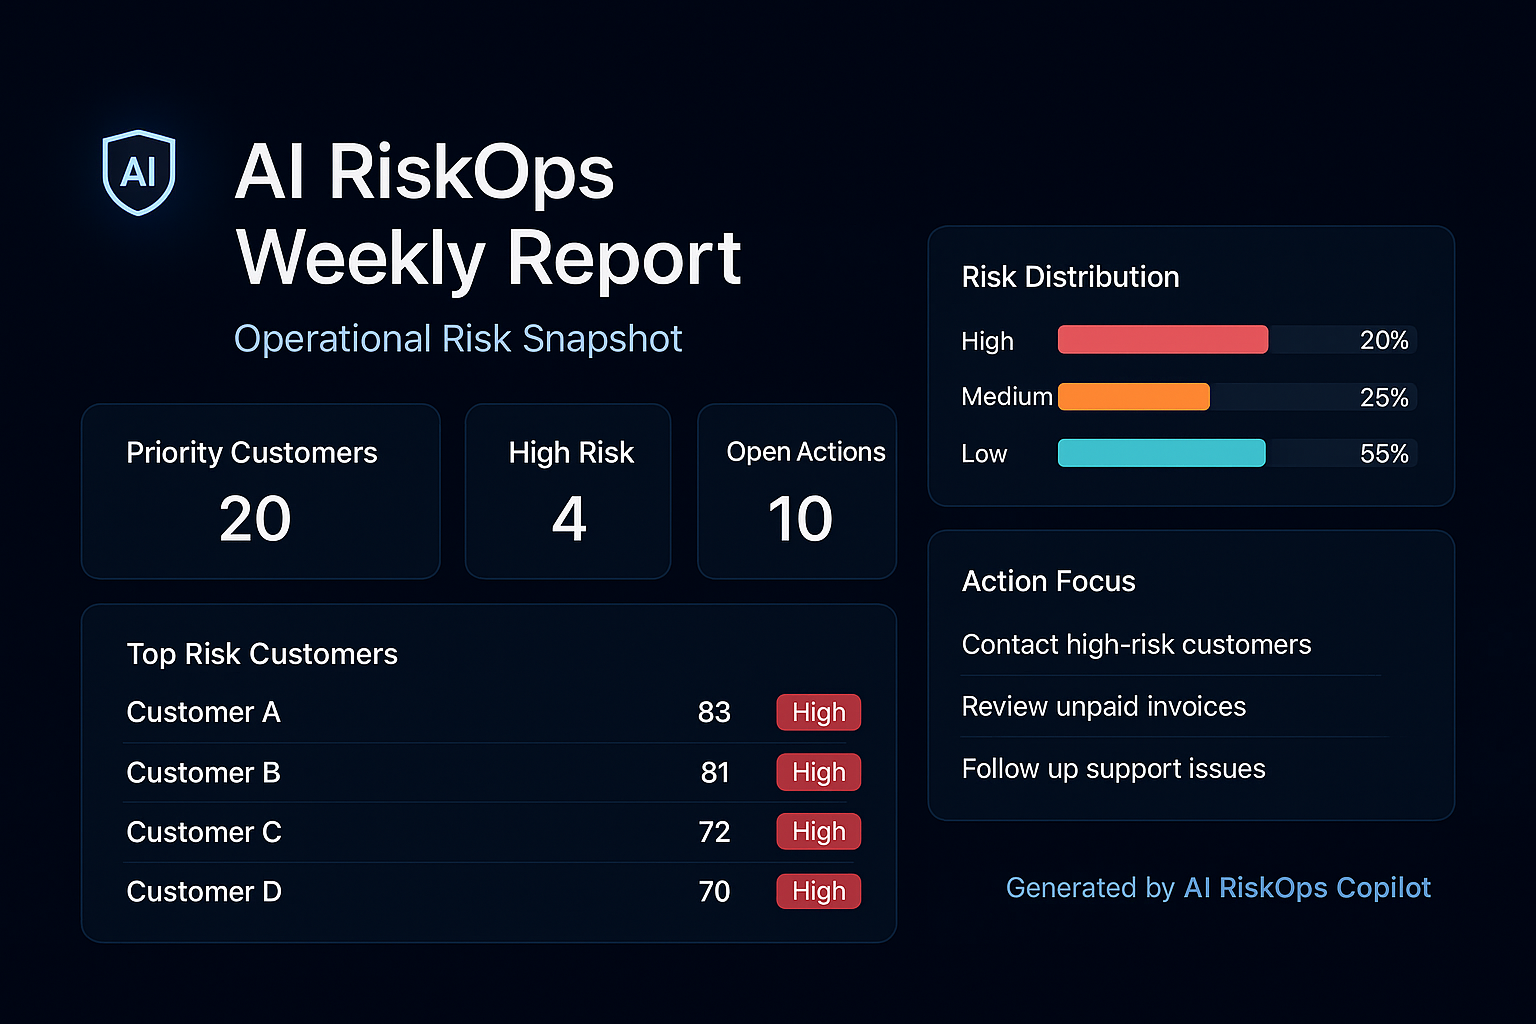

This screenshot's page, from the dashboard's own definition file:
{"tool":"powerbi","page":{"name":"Executive Overview","canvas":[1280,720],"ordinal":0},"visuals":[{"type":"textbox","box":[10,0,595,60],"z":0},{"type":"cardVisual","fields":{"Data":["_Measures.Total Customers","_Measures.High Risk Customers","_Measures.Open Actions","_Measures.Overdue Actions","_Measures.RiskOps Pressure Score"]},"box":[0,102.5,1280,111.2],"z":1000},{"type":"donutChart","title":"Risk Distribution","fields":{"Category":["Risk_Customers.risk_level"],"Y":["_Measures.Total Customers"]},"box":[0,213.8,621.2,266.2],"z":2000},{"type":"clusteredColumnChart","title":"Actions by Priority","fields":{"Category":["Action_Board.priority"],"Y":["_Measures.Total Actions"]},"box":[621.2,213.8,658.8,266.2],"z":3000},{"type":"tableEx","title":"Top Risk Customers","fields":{"Values":["Risk_Customers.Customer Alias","Risk_Customers.risk_level","Risk_Customers.risk_score","Risk_Customers.confidence","Risk_Customers.top_reasons","Risk_Customers.next_best_action","Risk_Customers.owner","Risk_Customers.Due Date Display"]},"box":[0,479.6,1280,240.6],"z":4000},{"type":"pageNavigator","box":[0,60,1280,52.5],"z":5000}]}

Visuals, with their boxes on the page's 1280x720 design canvas (x1, y1, x2, y2). These are canvas units, not pixel positions in the 1536x1024 screenshot, which may show the page scaled, cropped or inside an application window:
textbox: <box>10,0,605,60</box>
cardVisual - _Measures.Total Customers x _Measures.High Risk Customers: <box>0,102,1280,214</box>
"Risk Distribution" donutChart: <box>0,214,621,480</box>
"Actions by Priority" clusteredColumnChart: <box>621,214,1280,480</box>
"Top Risk Customers" tableEx: <box>0,480,1280,720</box>
pageNavigator: <box>0,60,1280,112</box>
